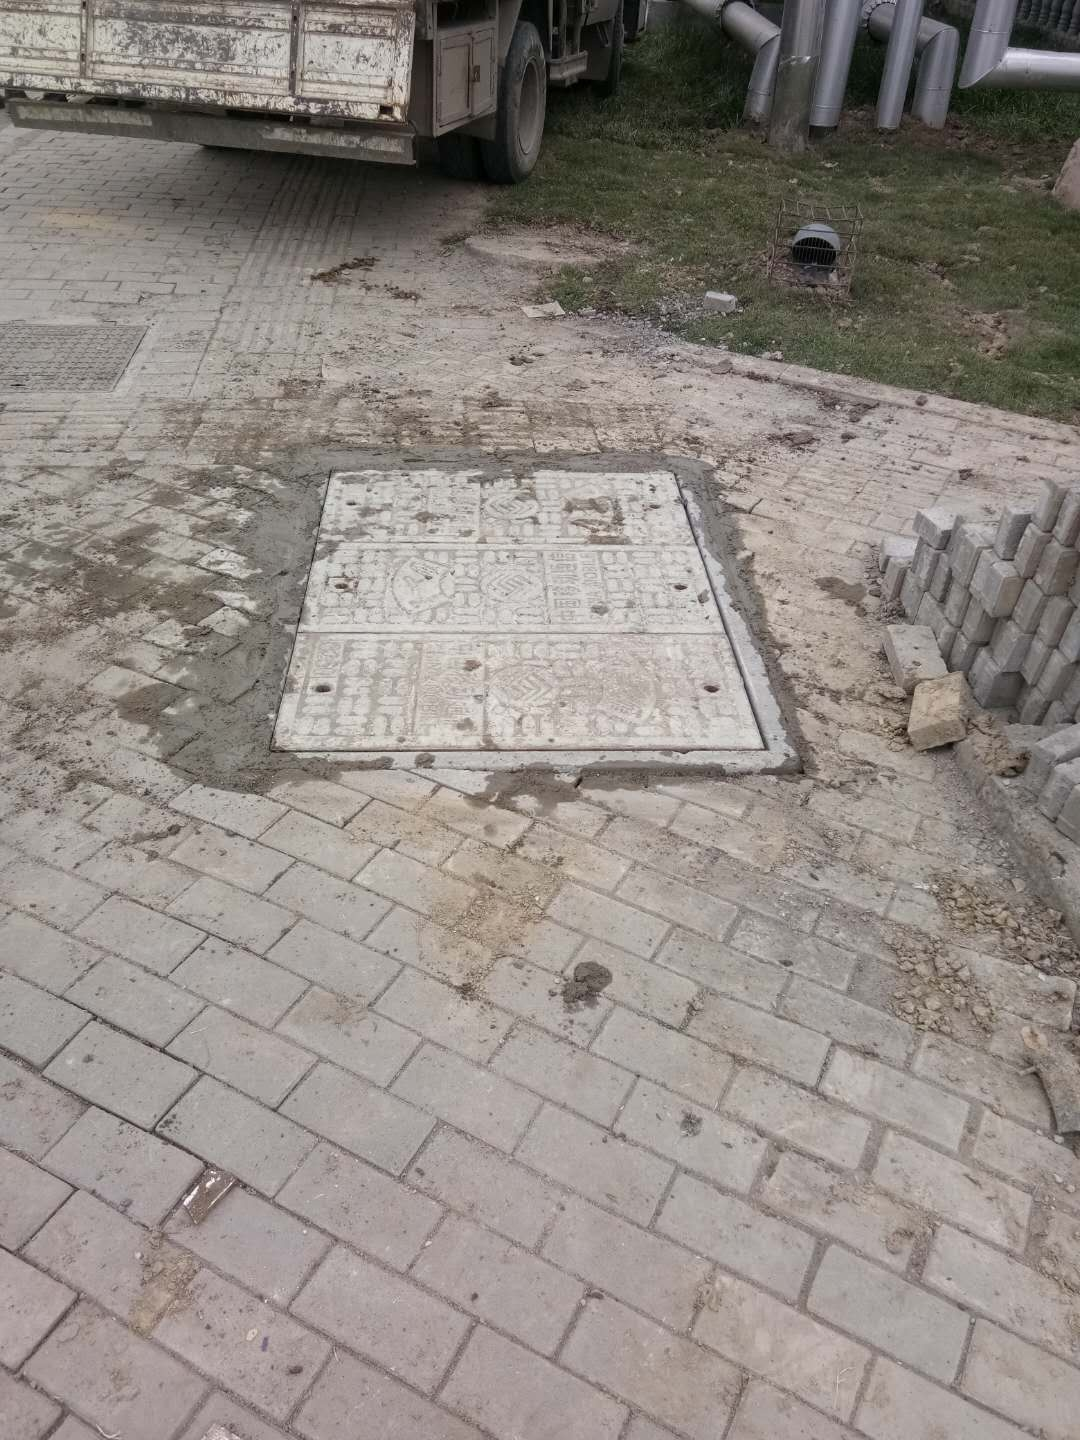good: (262, 458, 793, 769)
